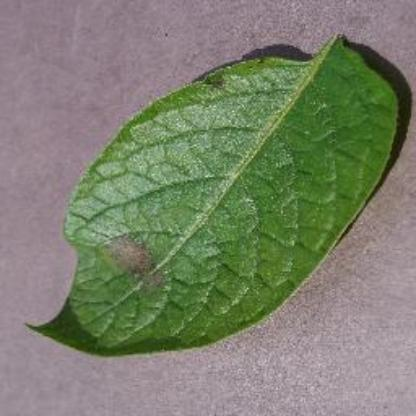Late-Blight: (47, 26, 402, 396)
